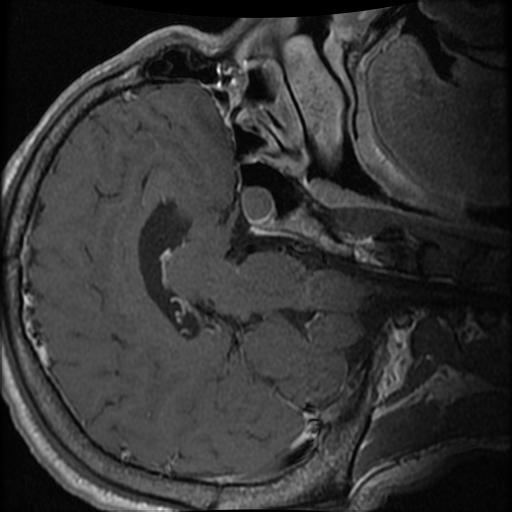pituitary tumour: (242, 187, 274, 226)
